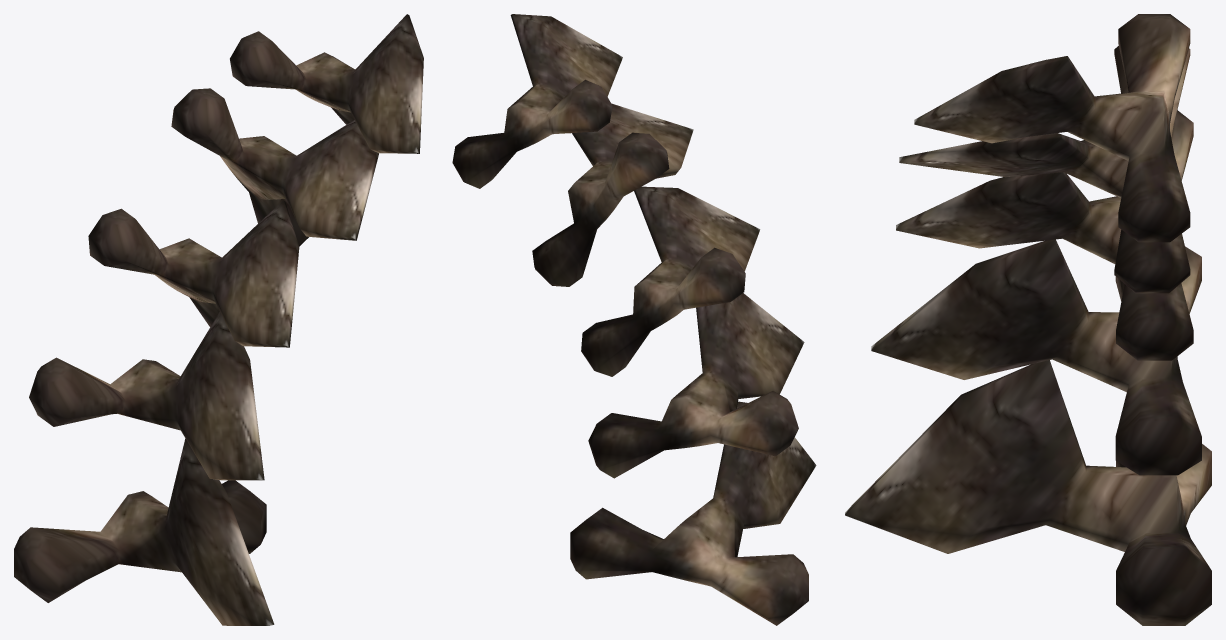
The picture shows the model from 3 angles, left to right: view 1: azimuth 30°, elevation 25°; view 2: azimuth 150°, elevation 25°; view 3: azimuth 270°, elevation 25°; orthographic projection. The views are drawn at different scales.
Parts seen in each view (by area): view 1: model_Object29; view 2: model_Object29; view 3: model_Object29.
Part boxes in pixels (bbox=[...]): model_Object29: bbox=[14, 14, 423, 625]; model_Object29: bbox=[452, 14, 816, 625]; model_Object29: bbox=[845, 14, 1211, 625].
Size of the model in its own units: 2.11 by 2.93 by 1.51.
1 material, 1 textured.
